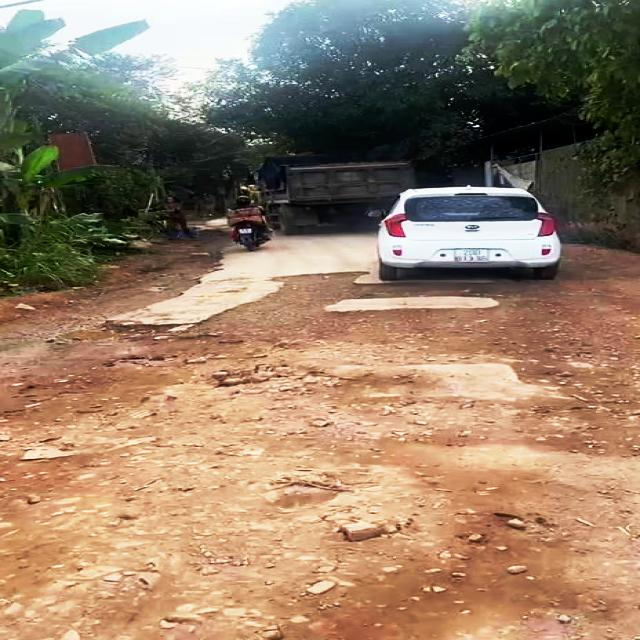pothole: (0, 310, 379, 455), (202, 271, 514, 374), (478, 284, 640, 462)
